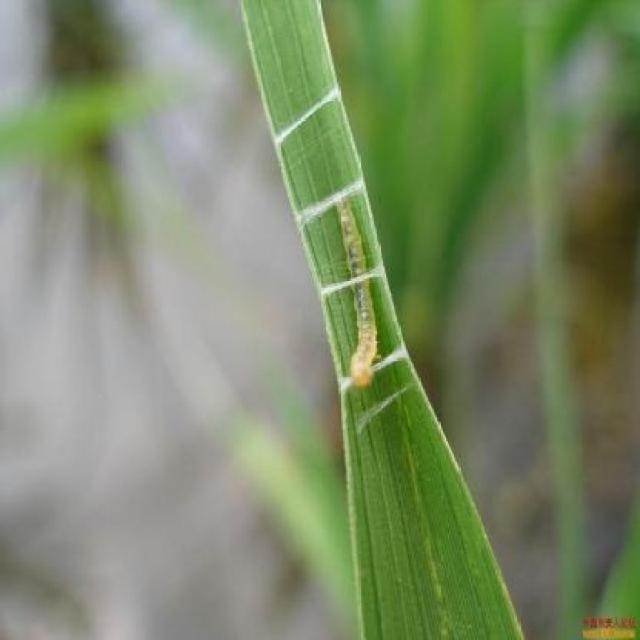leaf-folder: (320, 183, 389, 409)
